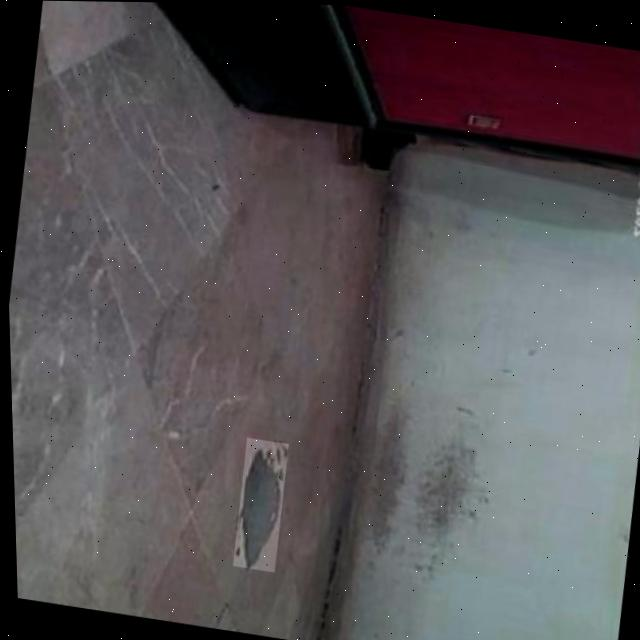spillage: (233, 442, 283, 567)
